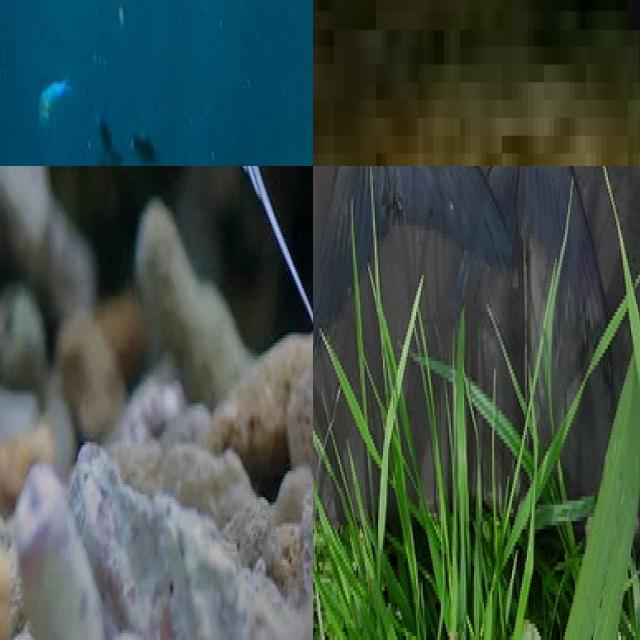fish: (0, 0, 313, 166), (0, 166, 313, 259)
